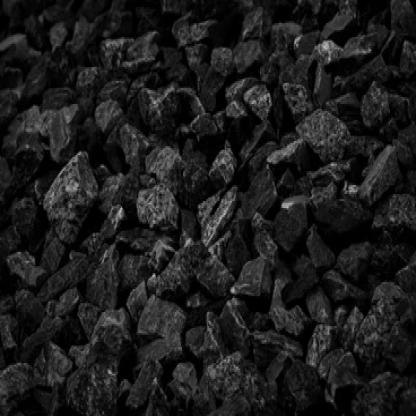Sedimentary_coal: (41, 139, 97, 229), (293, 104, 363, 164), (196, 176, 247, 254), (136, 176, 176, 229)
